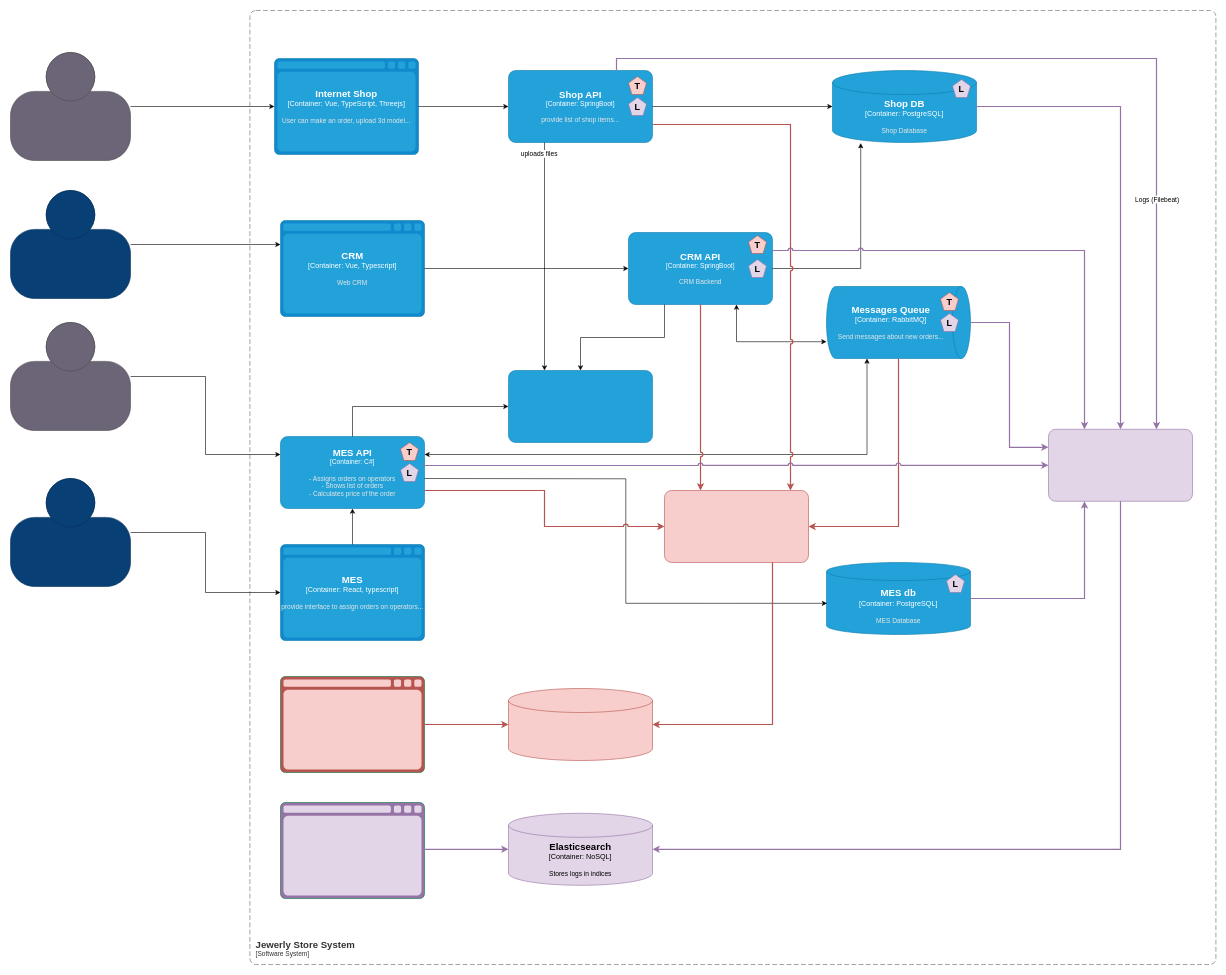
The diagram is 1226 pixels wide and 975 high, and some of its shapes have lost their labels. Each missing label, with the centre of its shape:
"3d files storage [Container: S3-based storage] stores 3d files" goes at (580,406).
"API user [Person] External API user" goes at (70,376).
"Customer [Person] External customer" goes at (70,106).
"Jaeger Collector [Container: Go] Collects tracing spans" goes at (736,526).
"Jaeger DB [Container: Cassandra/ES] Stores trace data" goes at (580,724).
"Jaeger UI [Container: Go] Visualize traces" goes at (352,724).
"Kibana [Container: Node.js] Log visualization & Dashboards" goes at (352,850).
"Logstash [Container: Java] Collects, parses, and filters logs" goes at (1120,465).
"Operator [Person] Takes order in work, manufactures jewerly" goes at (70,532).
"Seller [Person] Operates with order" goes at (70,244).
